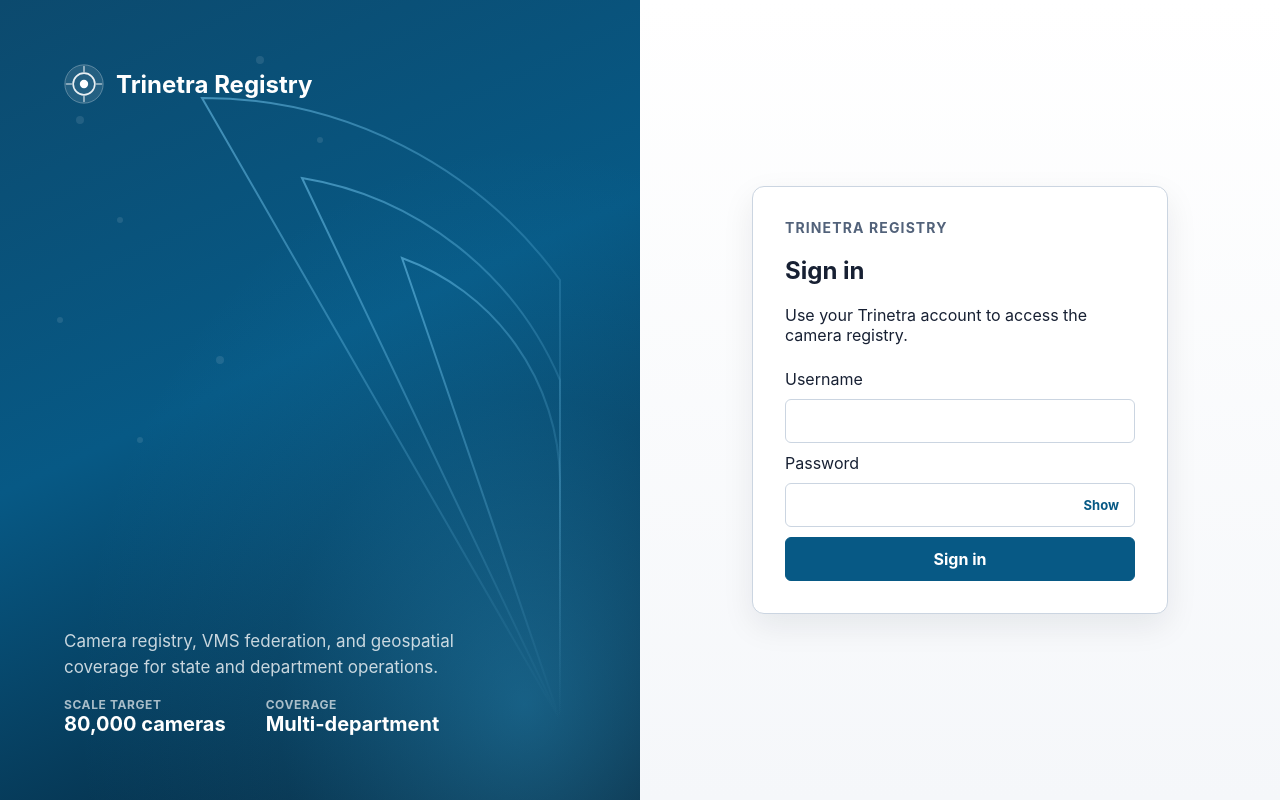
LoginPage › stores the returned token after a successful login
Type "admin" into the field labelled "Username" at [960, 421], box x1=785 y1=399 x2=1135 y2=443
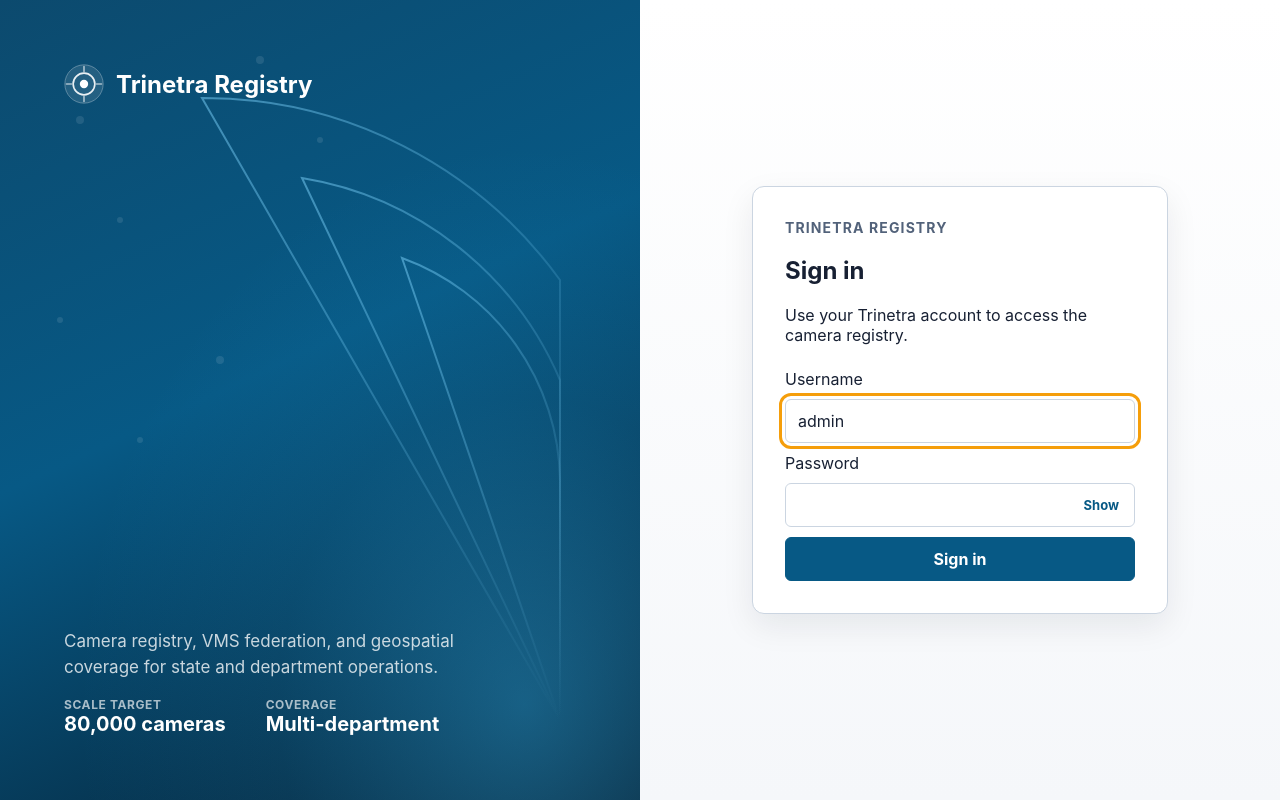
Type "valid password" into the password field labelled "Password" at [960, 505], box x1=785 y1=483 x2=1135 y2=527
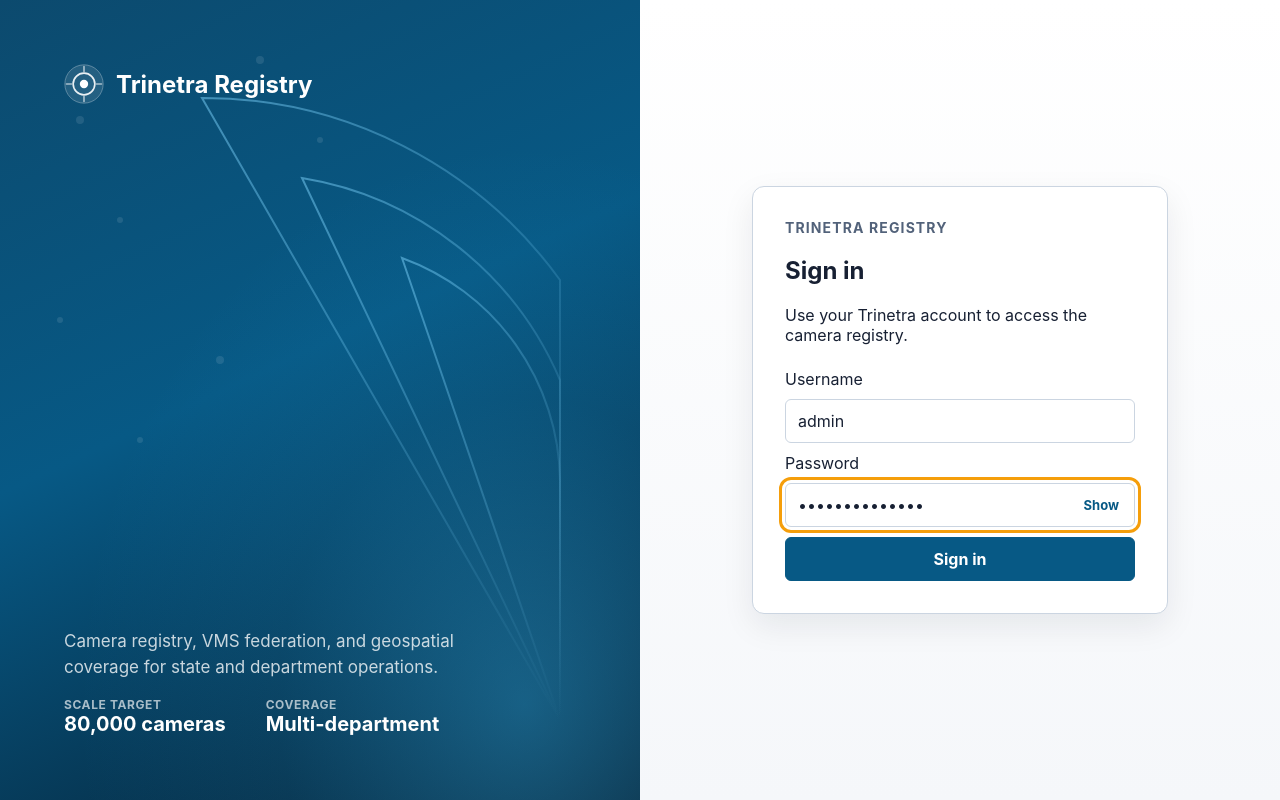
Click the button "Sign in" at [960, 559], box x1=785 y1=537 x2=1135 y2=581
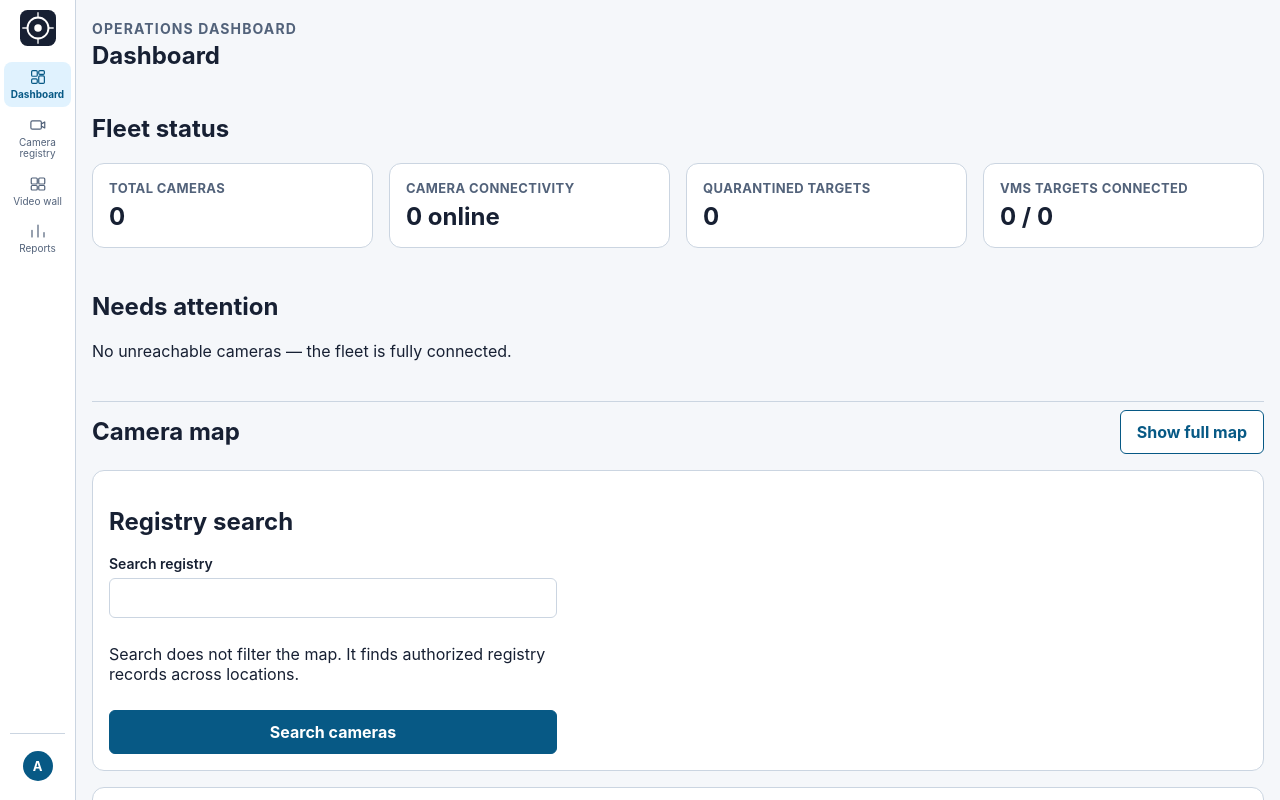
Result: the heading "Camera map" is shown at x1=92 y1=417 x2=240 y2=446
